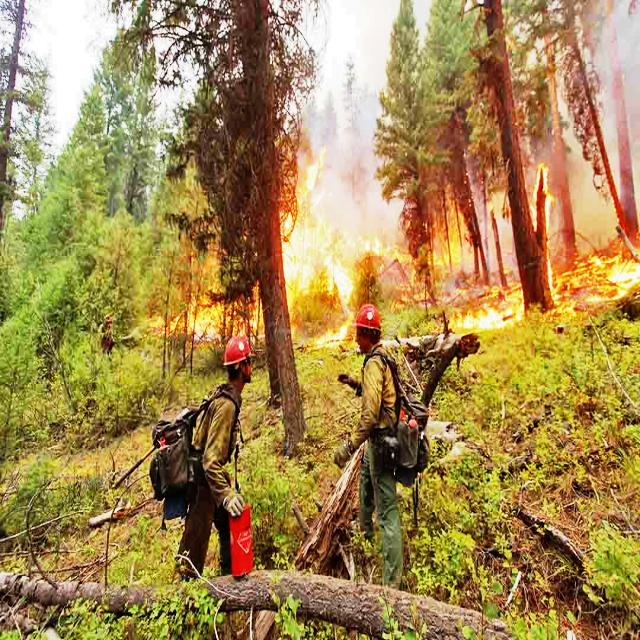api: (281, 140, 359, 325), (155, 266, 268, 340), (361, 219, 464, 277), (529, 154, 565, 314), (567, 234, 640, 309), (431, 293, 524, 347)
